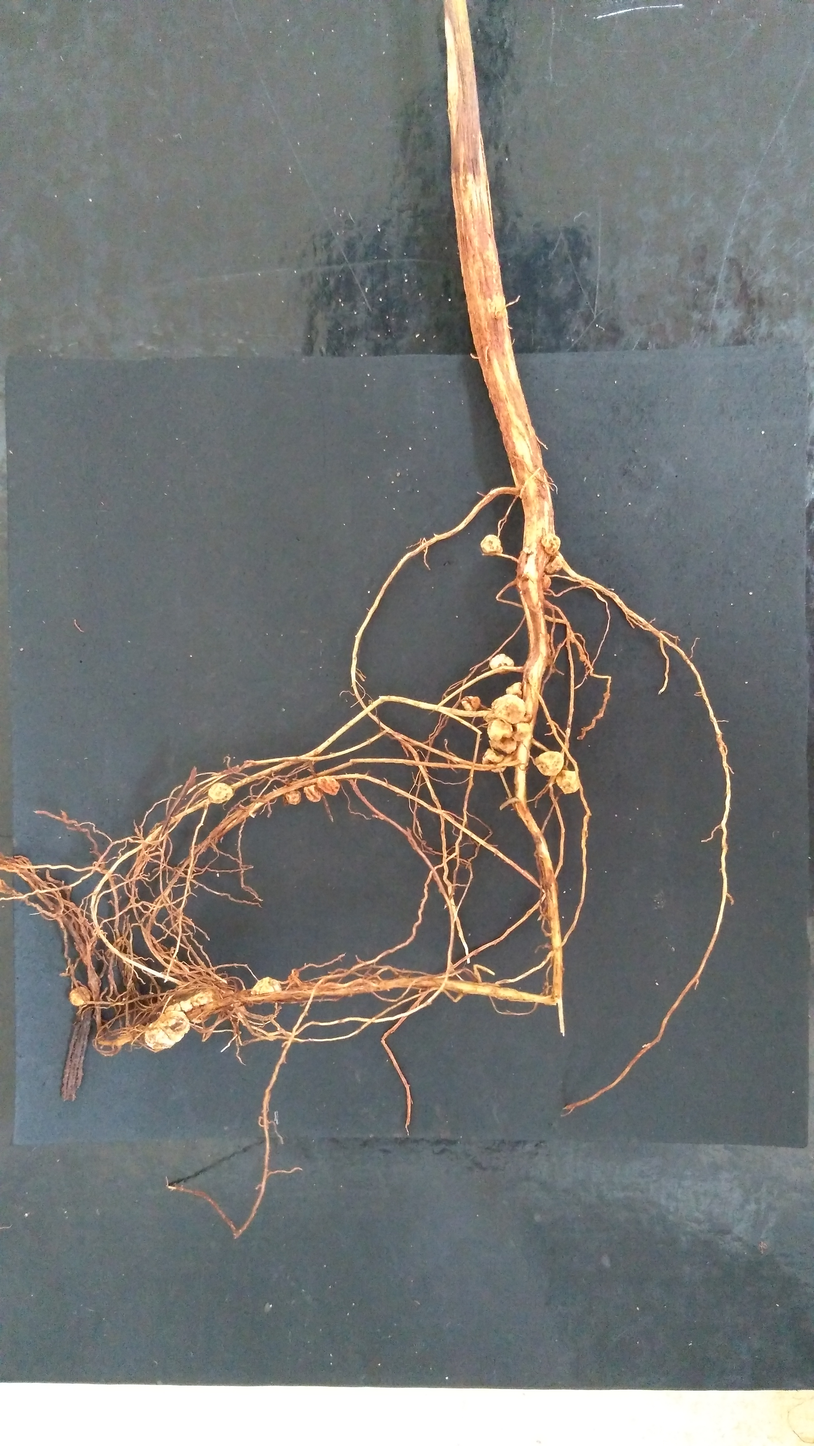nodule: (144, 1010, 190, 1050), (179, 988, 216, 1023), (486, 717, 532, 742), (482, 737, 517, 765), (492, 694, 525, 723), (532, 751, 564, 775), (554, 765, 580, 794), (250, 976, 283, 995), (488, 652, 515, 674), (207, 782, 234, 804), (316, 774, 341, 795), (480, 534, 503, 555), (544, 552, 565, 573), (541, 532, 561, 554), (69, 986, 90, 1006), (460, 695, 482, 714), (505, 681, 525, 699), (303, 784, 322, 802), (285, 789, 301, 806), (542, 573, 552, 591), (495, 309, 503, 321), (522, 547, 532, 554)
